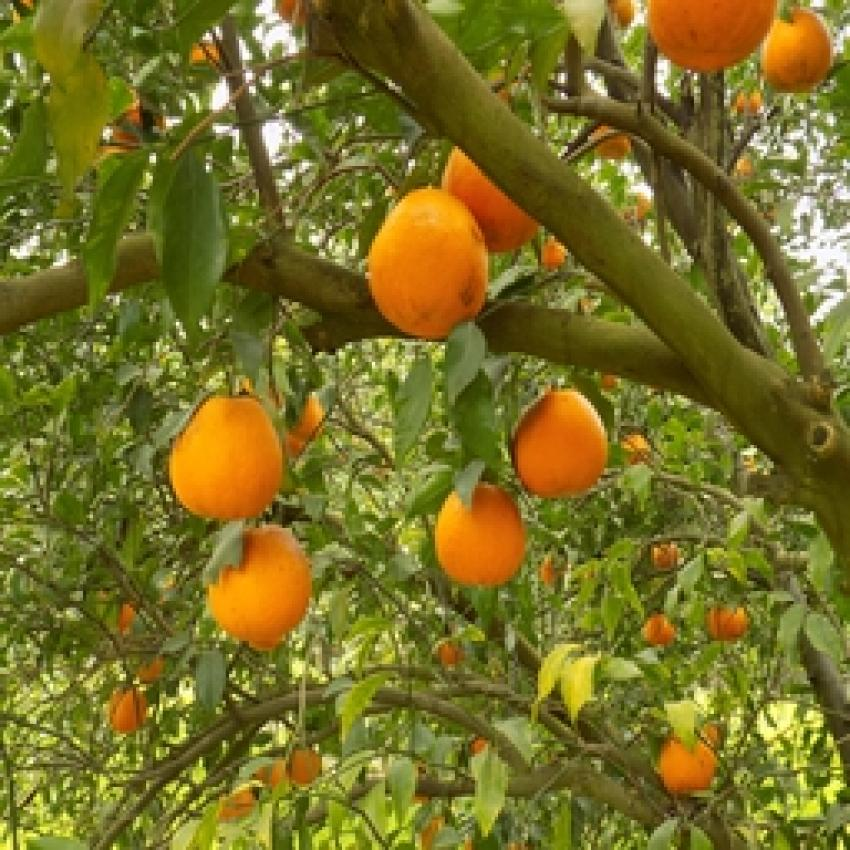Buen estado: (358, 179, 498, 342), (160, 381, 300, 523), (204, 520, 341, 657), (440, 141, 562, 261), (429, 472, 534, 606), (510, 378, 608, 506), (641, 0, 777, 73), (758, 6, 835, 94)
